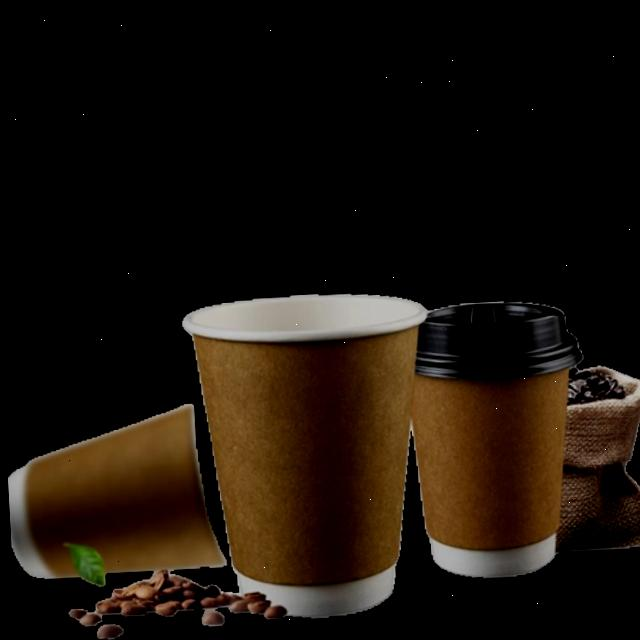trash: (163, 276, 445, 640)
